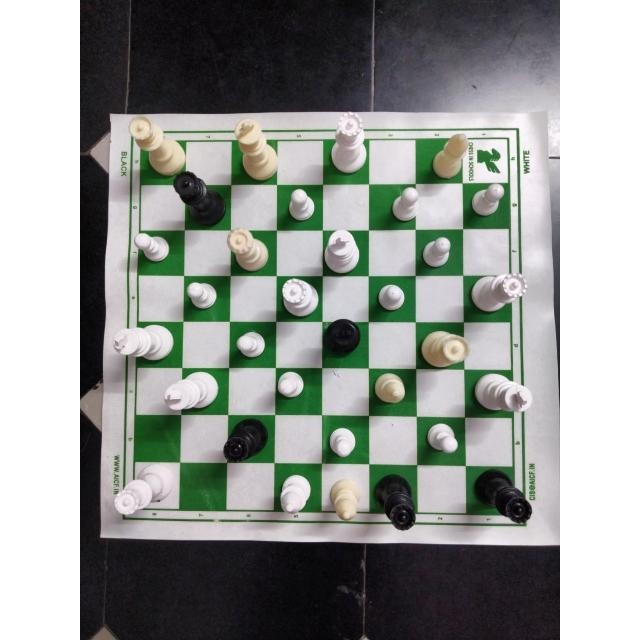black-king: (321, 319, 366, 365)
black-queen: (465, 470, 533, 528), (168, 169, 228, 227), (370, 471, 420, 535), (222, 417, 270, 465)
white-bishop: (428, 133, 471, 185), (325, 473, 363, 528), (275, 471, 313, 516), (372, 370, 410, 410)
white-king: (230, 116, 282, 184), (472, 372, 533, 420), (110, 323, 180, 364), (161, 371, 221, 413), (320, 228, 364, 274)
white-pawn: (421, 419, 462, 457), (386, 185, 421, 229), (132, 230, 174, 266), (470, 182, 509, 219), (421, 230, 457, 270), (185, 275, 221, 314), (325, 422, 361, 460), (282, 186, 317, 224), (376, 279, 408, 317), (275, 367, 310, 401), (234, 328, 266, 360)
white-queen: (124, 116, 188, 176), (112, 465, 176, 517), (466, 271, 530, 319), (327, 112, 369, 184), (416, 327, 472, 371), (222, 227, 271, 275), (277, 278, 322, 320)
